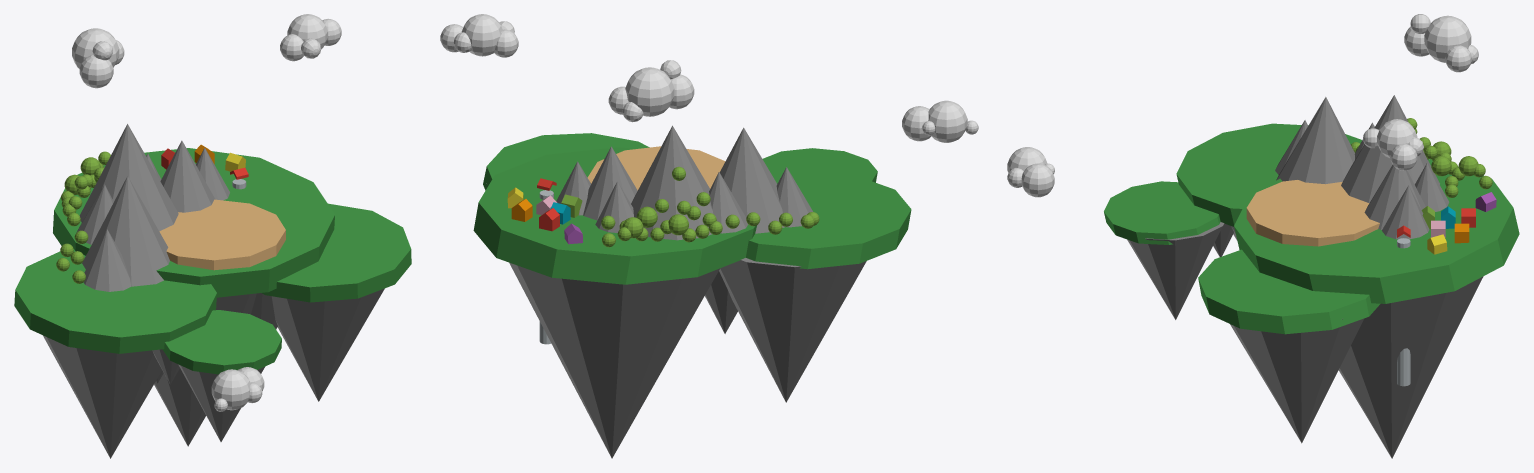
3 views of the same model, side by side, from view 1: azimuth 30°, elevation 25°; view 2: azimuth 150°, elevation 25°; view 3: azimuth 270°, elevation 25° (orthographic). The views are drawn at different scales.
Parts seen in each view (by area): view 1: node_MeshObject300296256-PolyPaper21, node_MeshObject1701543936-PolyPaper9; view 2: node_MeshObject1701543936-PolyPaper9, node_MeshObject300296256-PolyPaper21; view 3: node_MeshObject300296256-PolyPaper21, node_MeshObject1701543936-PolyPaper9.
Part boxes in pixels (x1,y1,x2,y2): node_MeshObject300296256-PolyPaper21: [14, 38, 411, 458]; node_MeshObject1701543936-PolyPaper9: [53, 14, 341, 446]; node_MeshObject1701543936-PolyPaper9: [440, 14, 931, 458]; node_MeshObject300296256-PolyPaper21: [453, 21, 978, 402]; node_MeshObject300296256-PolyPaper21: [1007, 95, 1496, 443]; node_MeshObject1701543936-PolyPaper9: [1021, 14, 1519, 458].
Bounding box in the file's own units: 0.6373 × 0.6617 × 0.7496.
